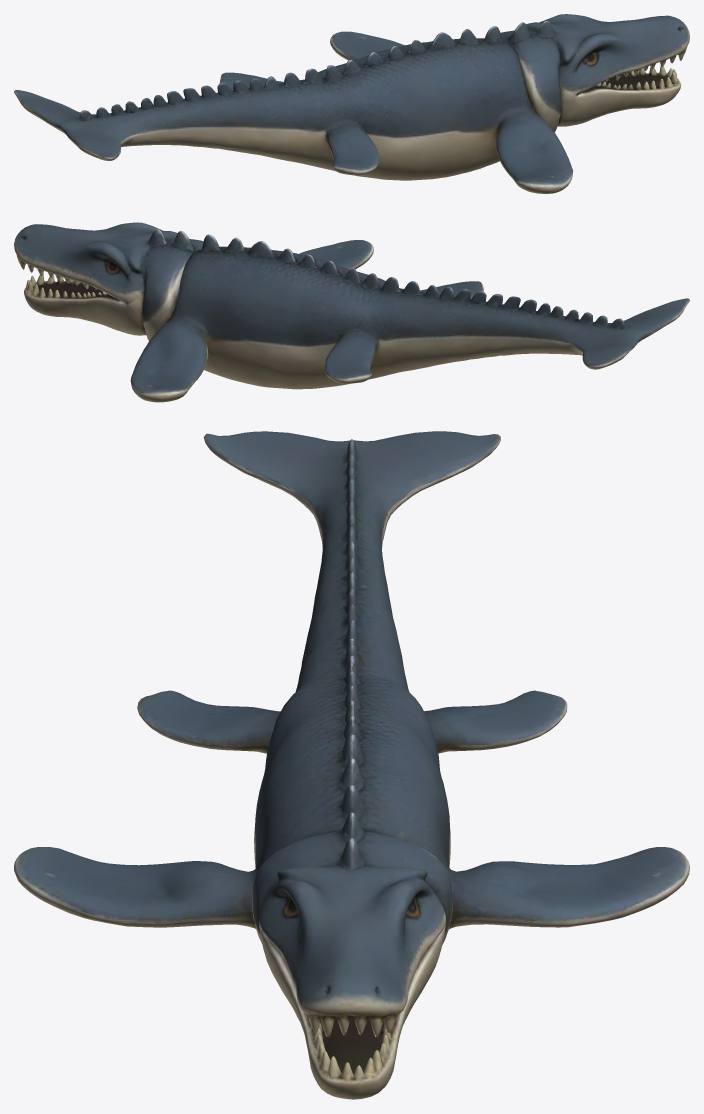
The model's file is mosasaur.glb.
3 renders of one model, top to bottom at view 1: azimuth 30°, elevation 25°; view 2: azimuth 150°, elevation 25°; view 3: azimuth 270°, elevation 25°, orthographic. The views are drawn at different scales.
Visible parts, largest first — view 1: geometry_0; view 2: geometry_0; view 3: geometry_0.
Boxes of the visible parts, x1=… form: geometry_0: x1=14, y1=14, x2=689, y2=193; geometry_0: x1=14, y1=222, x2=689, y2=402; geometry_0: x1=14, y1=431, x2=689, y2=1099.
Bounding box in the file's own units: 0.9994 × 0.2229 × 0.5797.
1 material, 1 textured.
